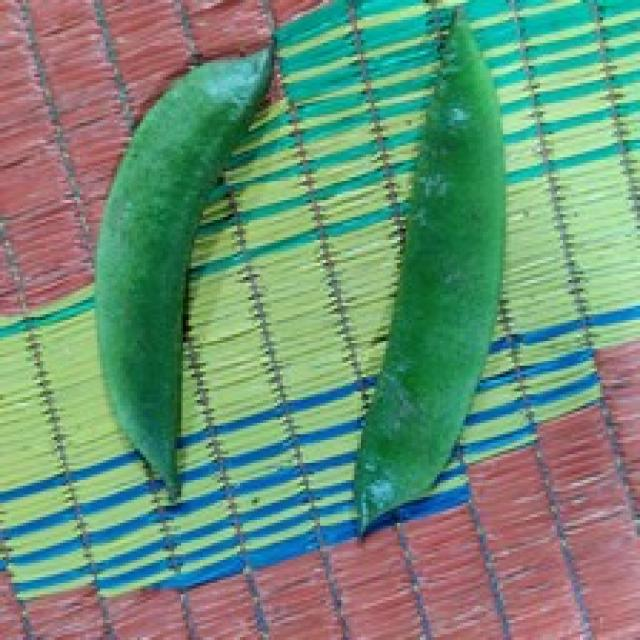Bean: (348, 3, 506, 540), (92, 40, 274, 503)
